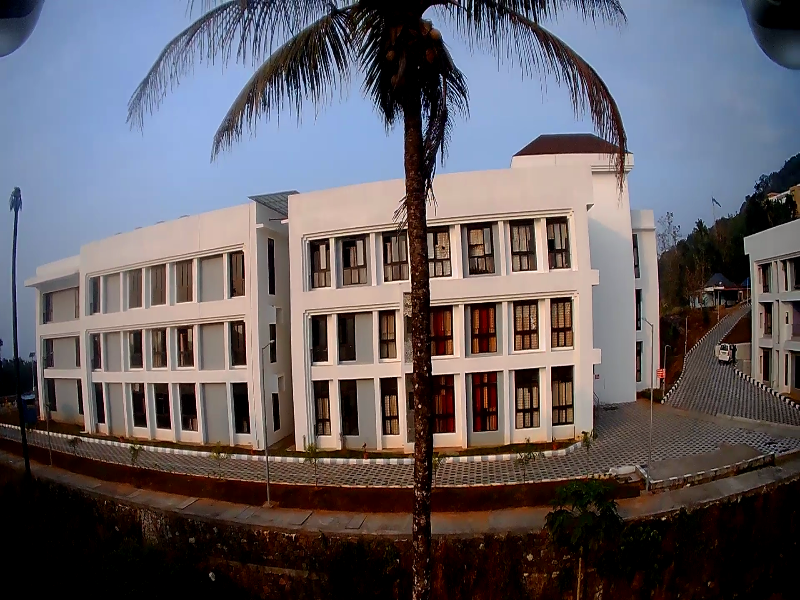coconut: (425, 22, 449, 43)
